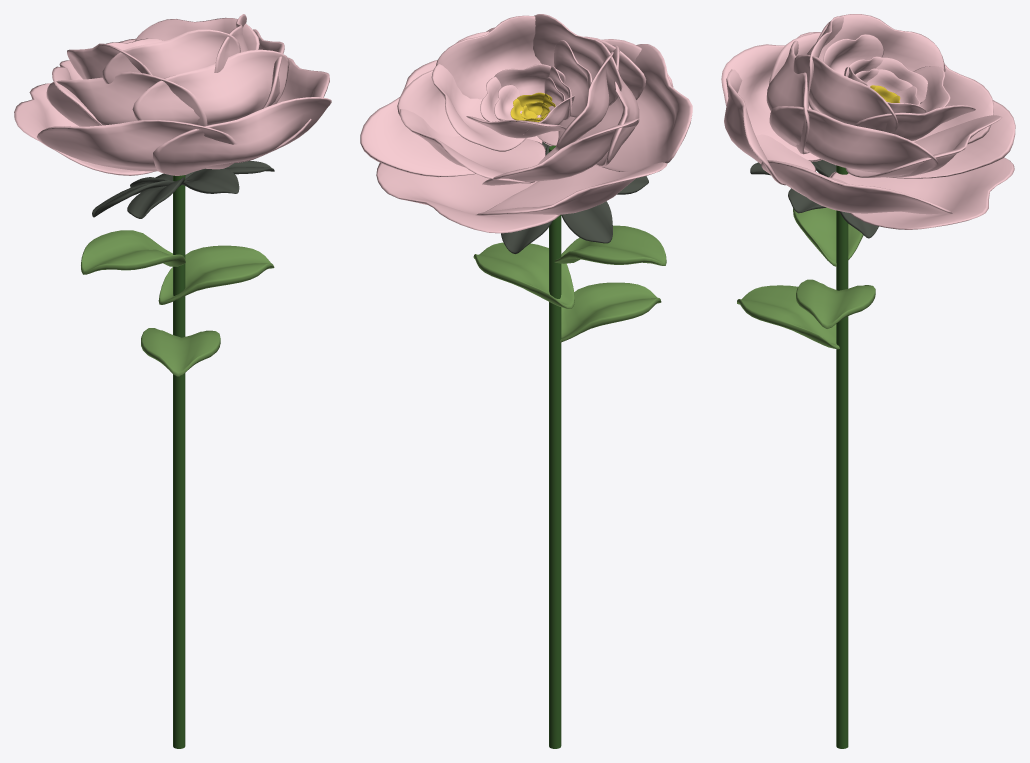
File: flower10.fbx
The picture shows the model from 3 angles, left to right: view 1: azimuth 30°, elevation 25°; view 2: azimuth 150°, elevation 25°; view 3: azimuth 270°, elevation 25°; orthographic projection.
Visible parts, largest first — view 1: flower19_group39_group38_pPlane23, flower19_leaf22; view 2: flower19_group39_group38_pPlane23, flower19_leaf22; view 3: flower19_group39_group38_pPlane23, flower19_leaf22.
Part boxes in pixels (<box>): flower19_group39_group38_pPlane23: <box>14,14,331,218</box>; flower19_leaf22: <box>81,175,274,748</box>; flower19_group39_group38_pPlane23: <box>360,14,692,254</box>; flower19_leaf22: <box>473,145,666,748</box>; flower19_group39_group38_pPlane23: <box>721,14,1015,238</box>; flower19_leaf22: <box>737,165,875,748</box>.
Bounding box in the file's own units: 11.31 × 27.74 × 10.34.
